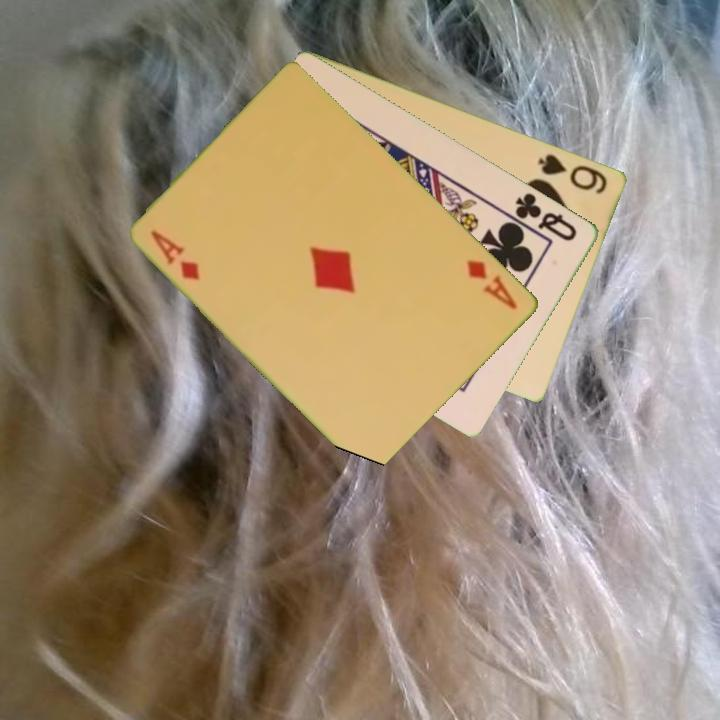6s: (535, 150, 611, 197)
Ad: (463, 256, 521, 313), (147, 226, 204, 283)
Qc: (512, 189, 581, 244)
